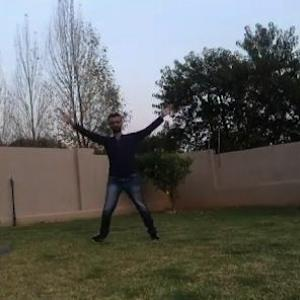takeoff: (64, 101, 177, 246)
